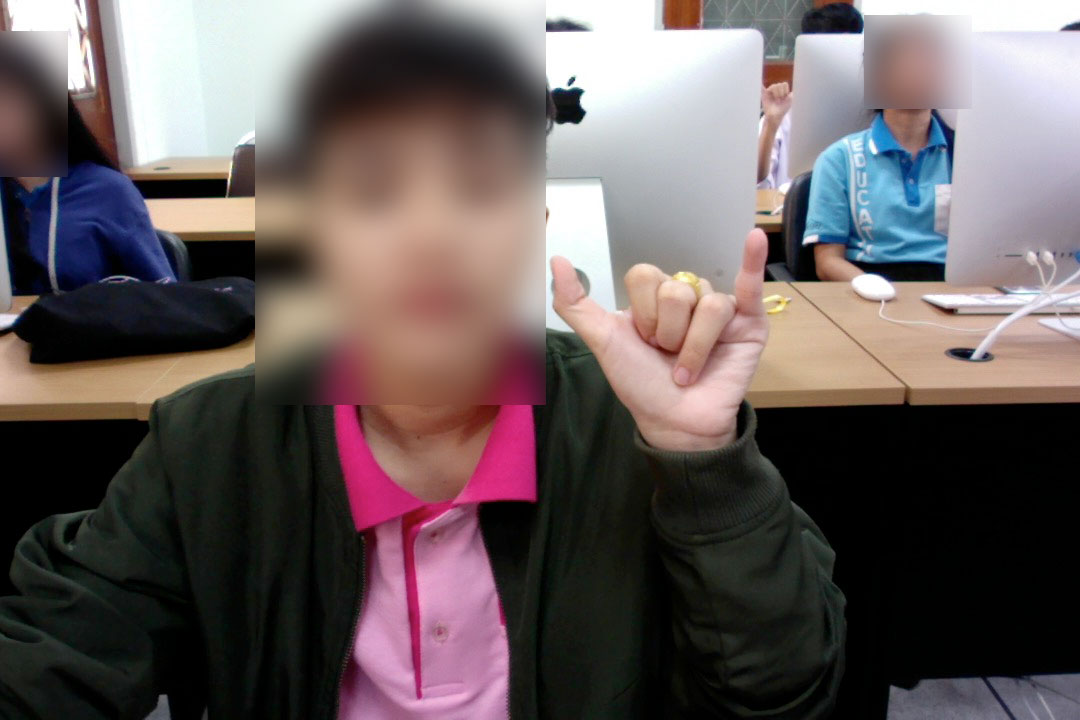yor: (544, 220, 773, 448)
